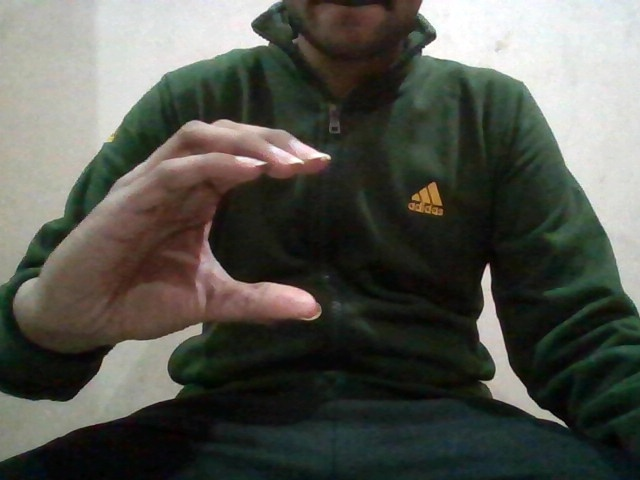C: (46, 117, 333, 342)
